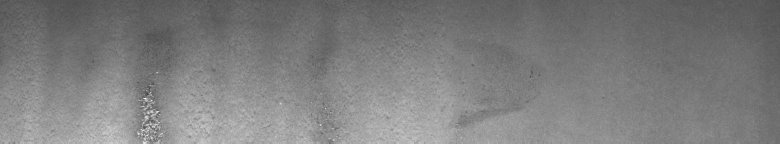hc: (133, 69, 216, 136)
